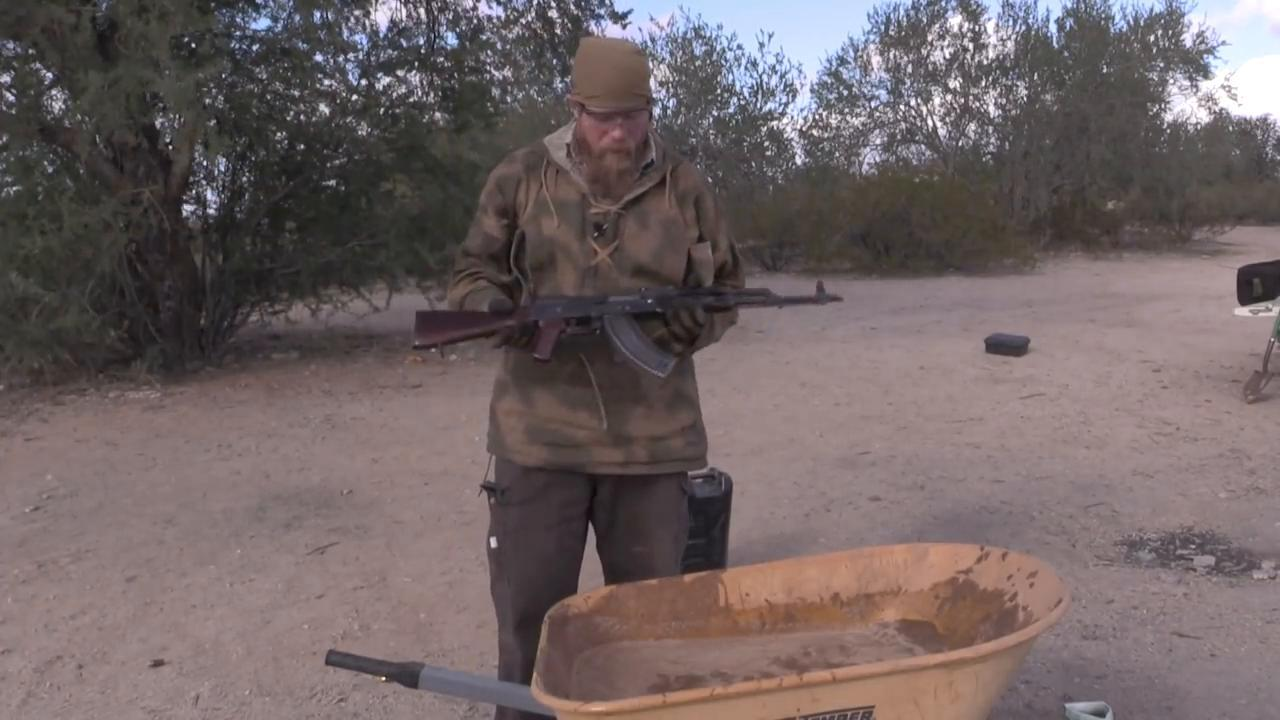AK47 Rifle: (409, 277, 855, 374)
